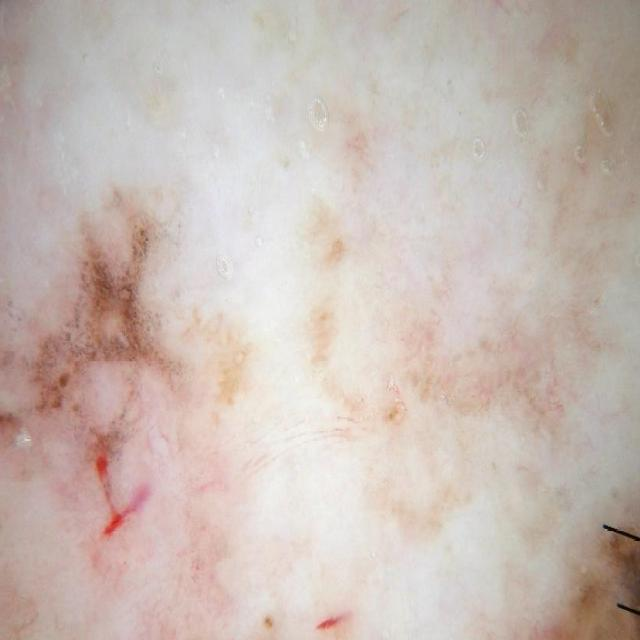Melanoma: (0, 171, 206, 463), (447, 468, 640, 640)
